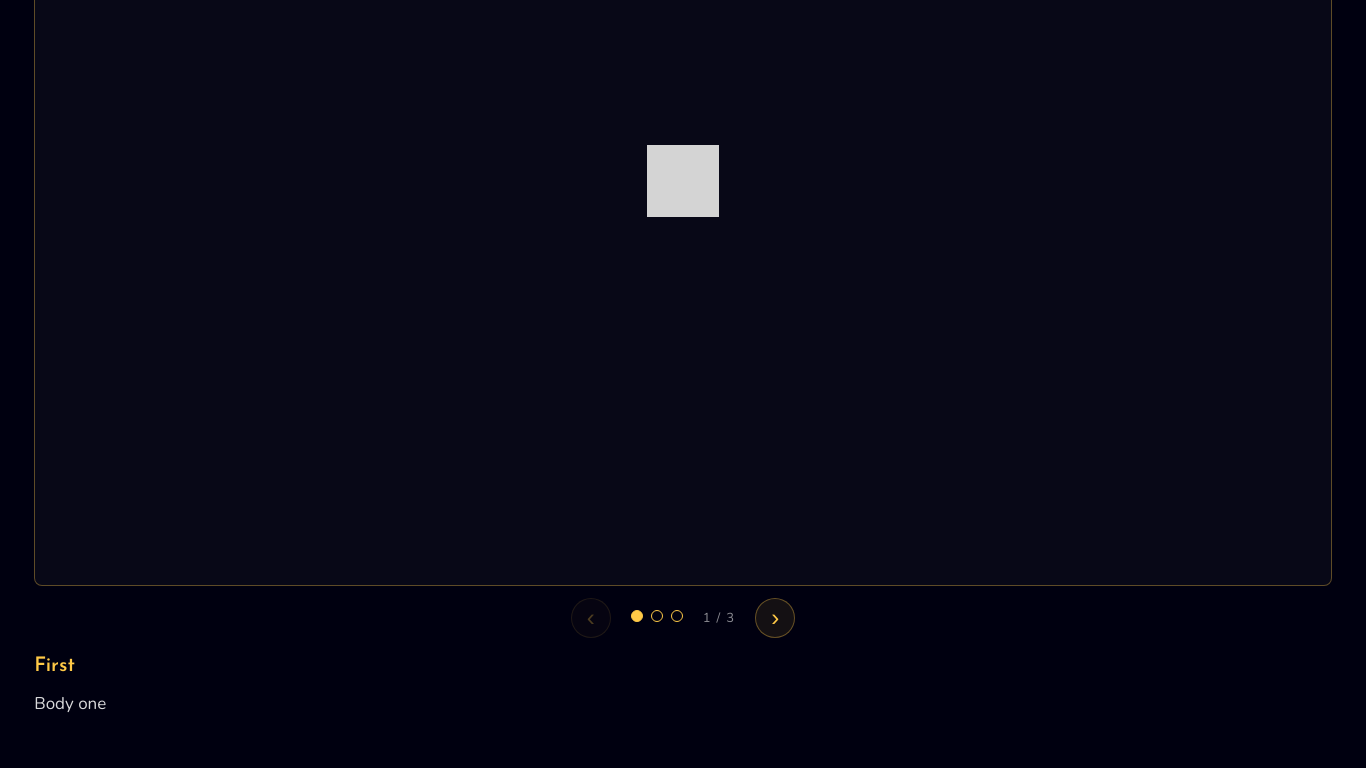
Test: ProjectTour › Next and Previous move between steps
This screenshot has width=1366, height=768.
(page scrolled)
Click the button named "next". click: [775, 618]
box: [755,598,795,638]
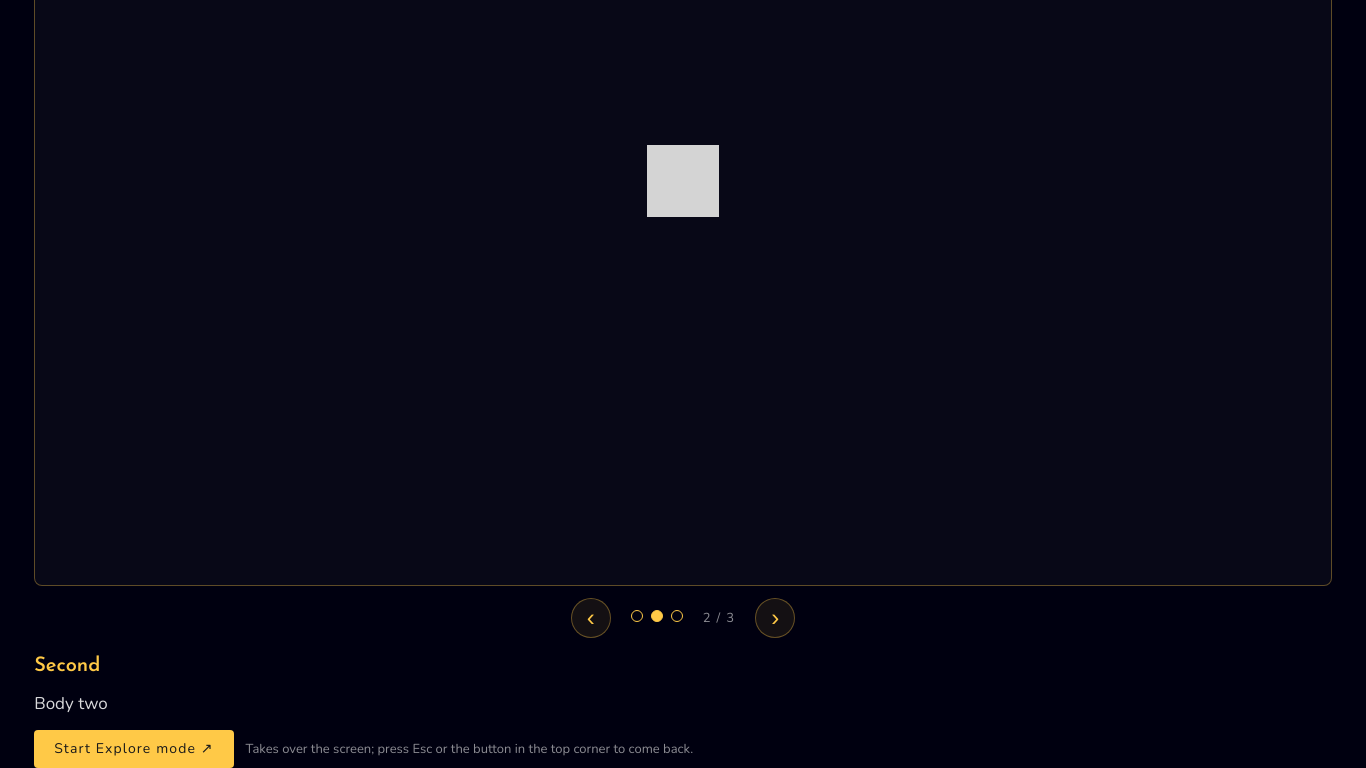
Result: the heading "Second" is shown at [34,656,100,676]
Click the button named "previous". click: [591, 618]
box: [571,598,611,638]
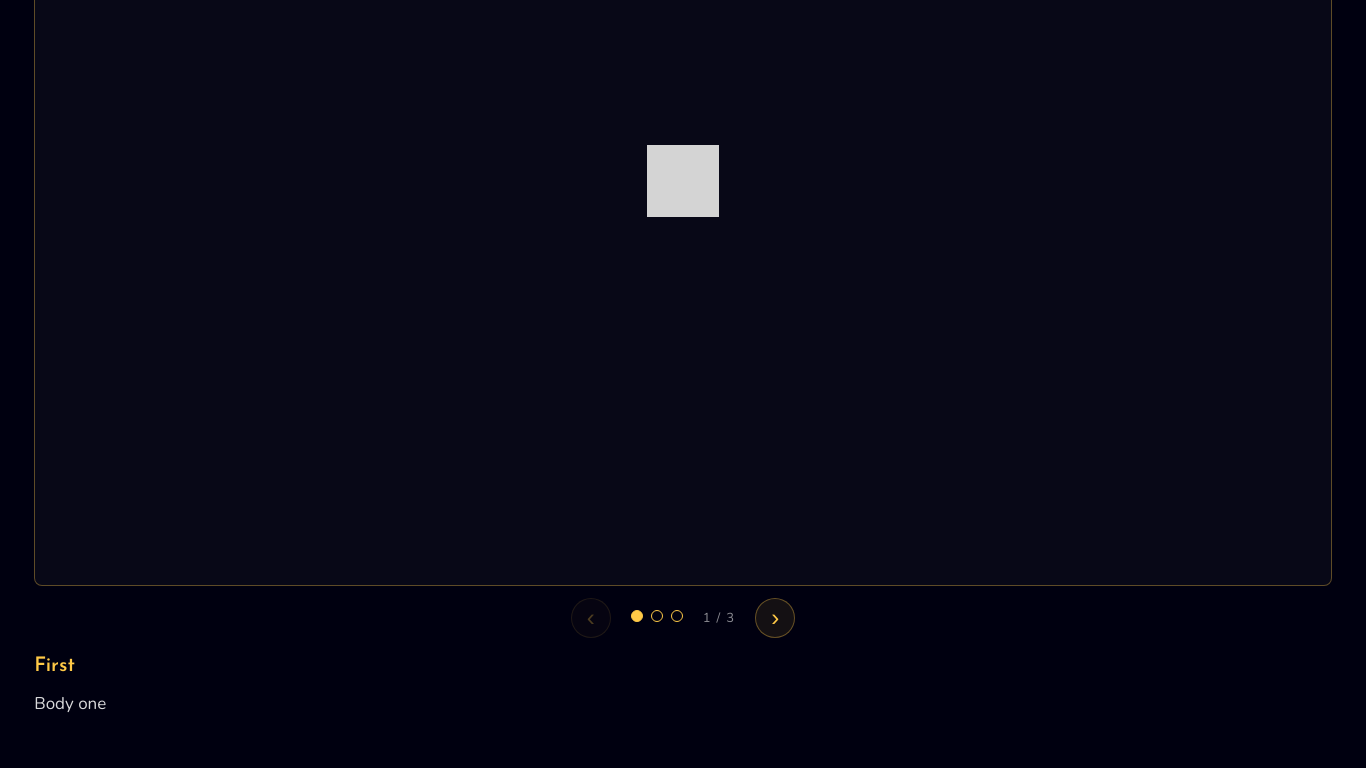
Result: the heading "First" is shown at [34,656,75,676]
